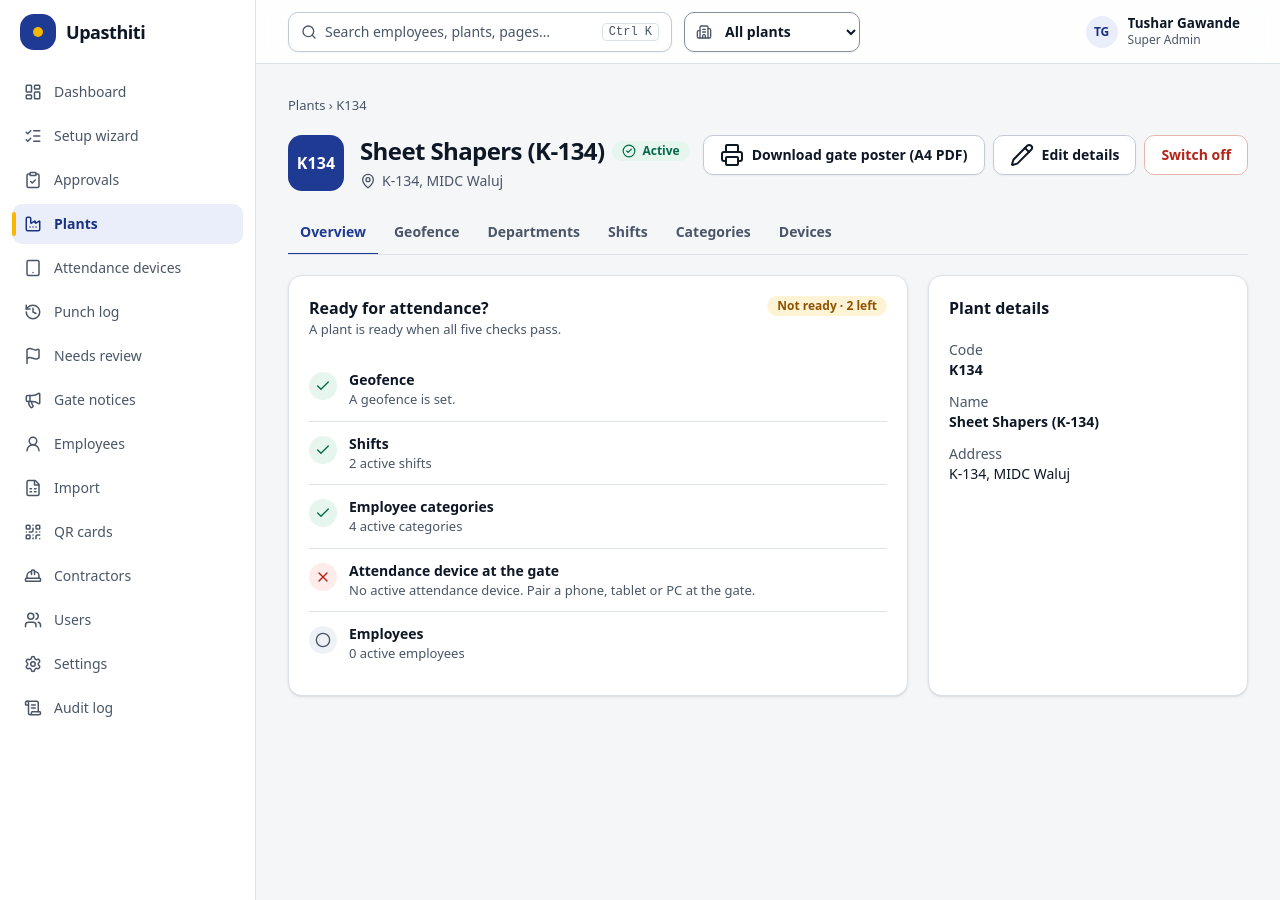
Test case: plant detail › shows the shifts with the live sentence for a night shift in the dialog
Click the tab "Shifts".
click(628, 233)  # box [596,211,660,255]
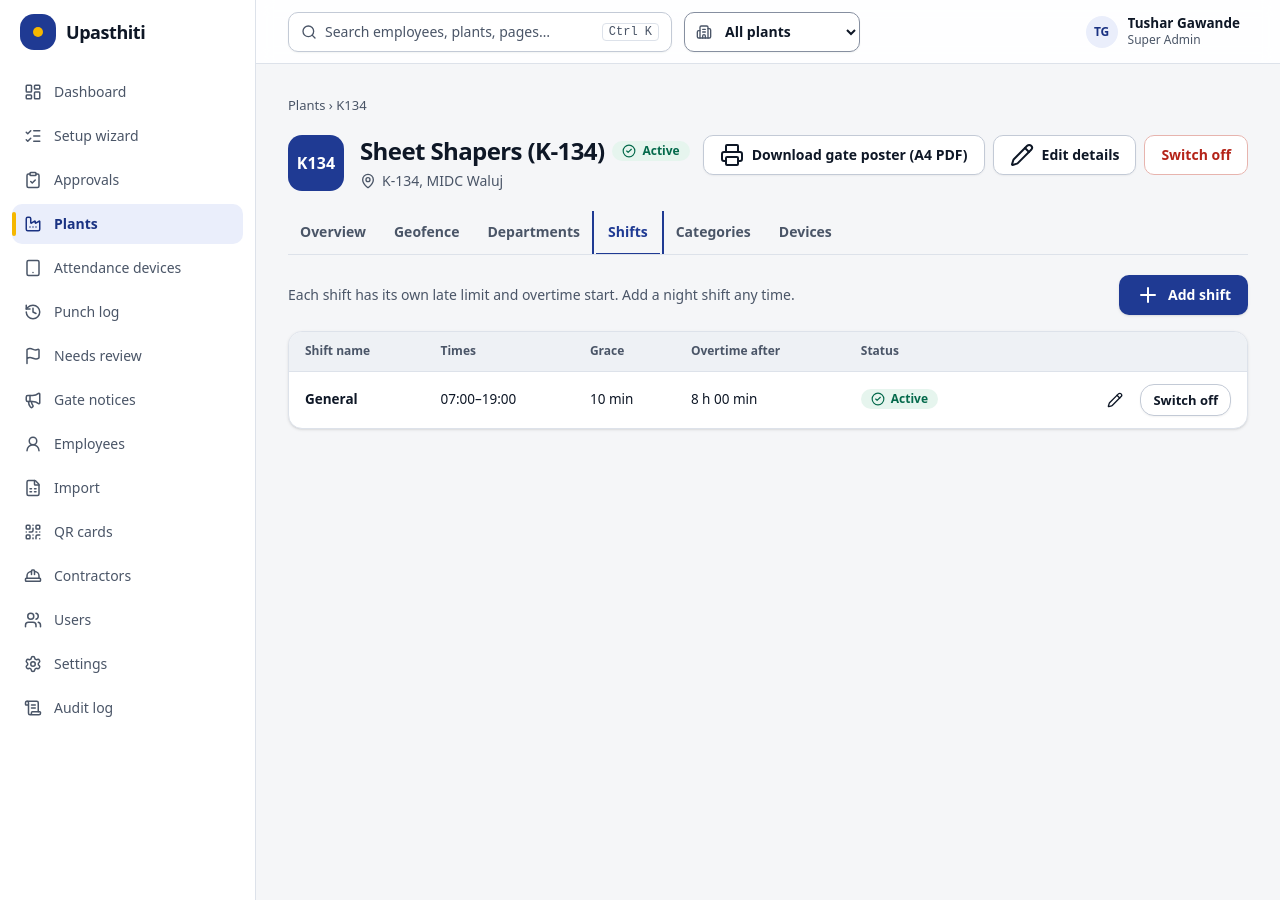
Result: the text "07:00–19:00" is shown at [428,372,578,428]
Click the button "Add shift".
click(1184, 295)  # box [1119,275,1248,315]
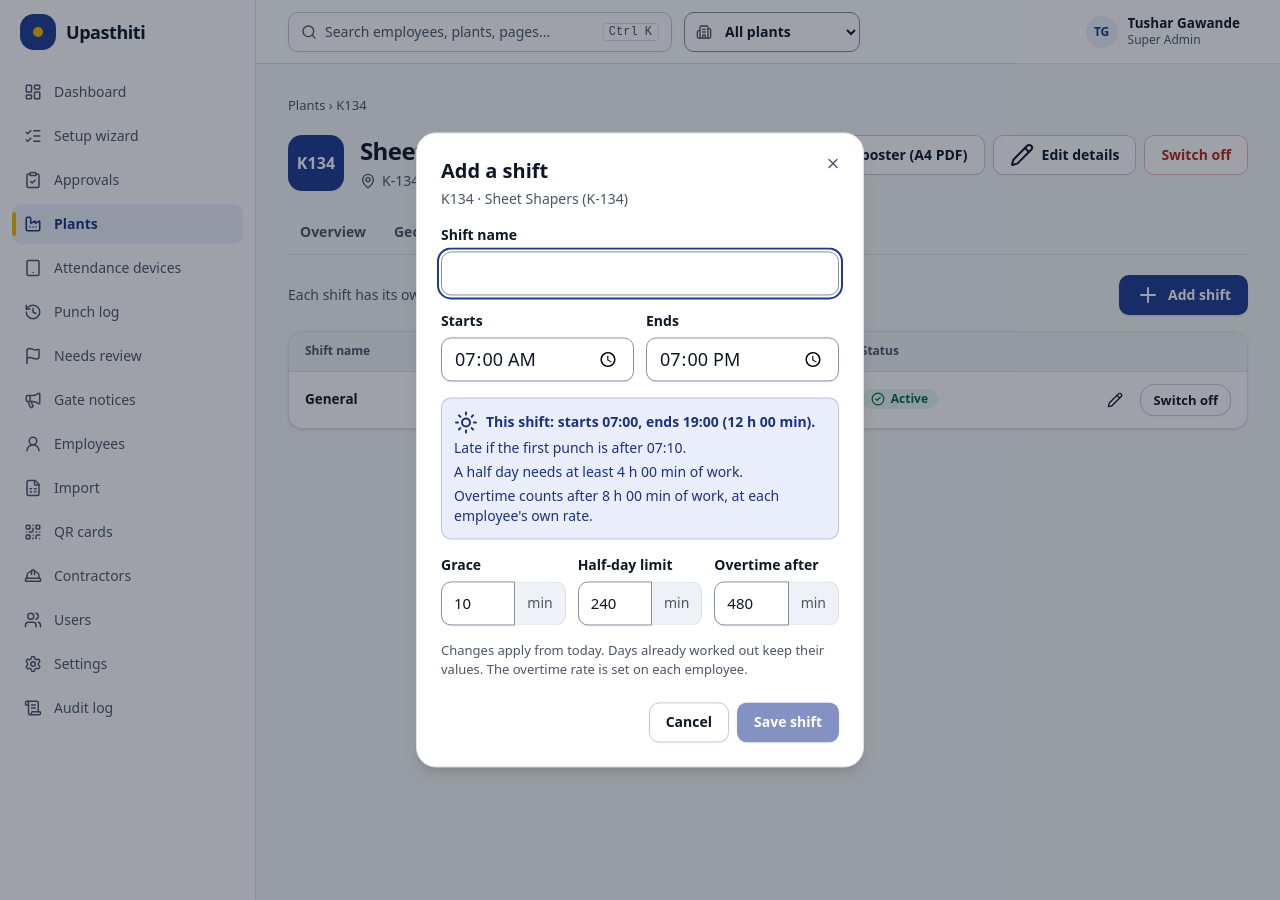
Type "Night" into the field labelled "Shift name".
click(640, 273); type("Night")  # box [441,251,839,295]
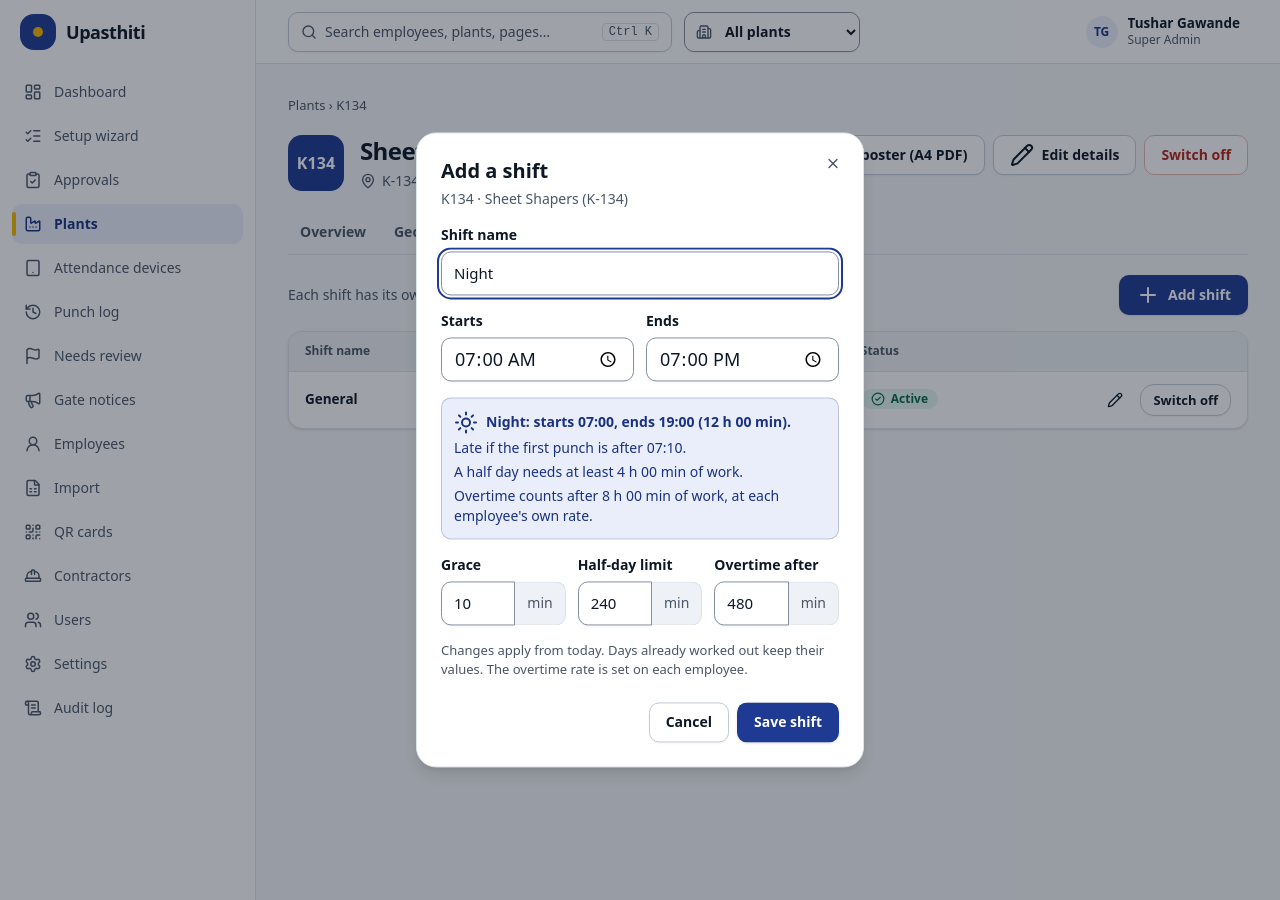
Replace the text in the time field labelled "Starts" with "19:00" at (538, 359), box [441,337,634,381]
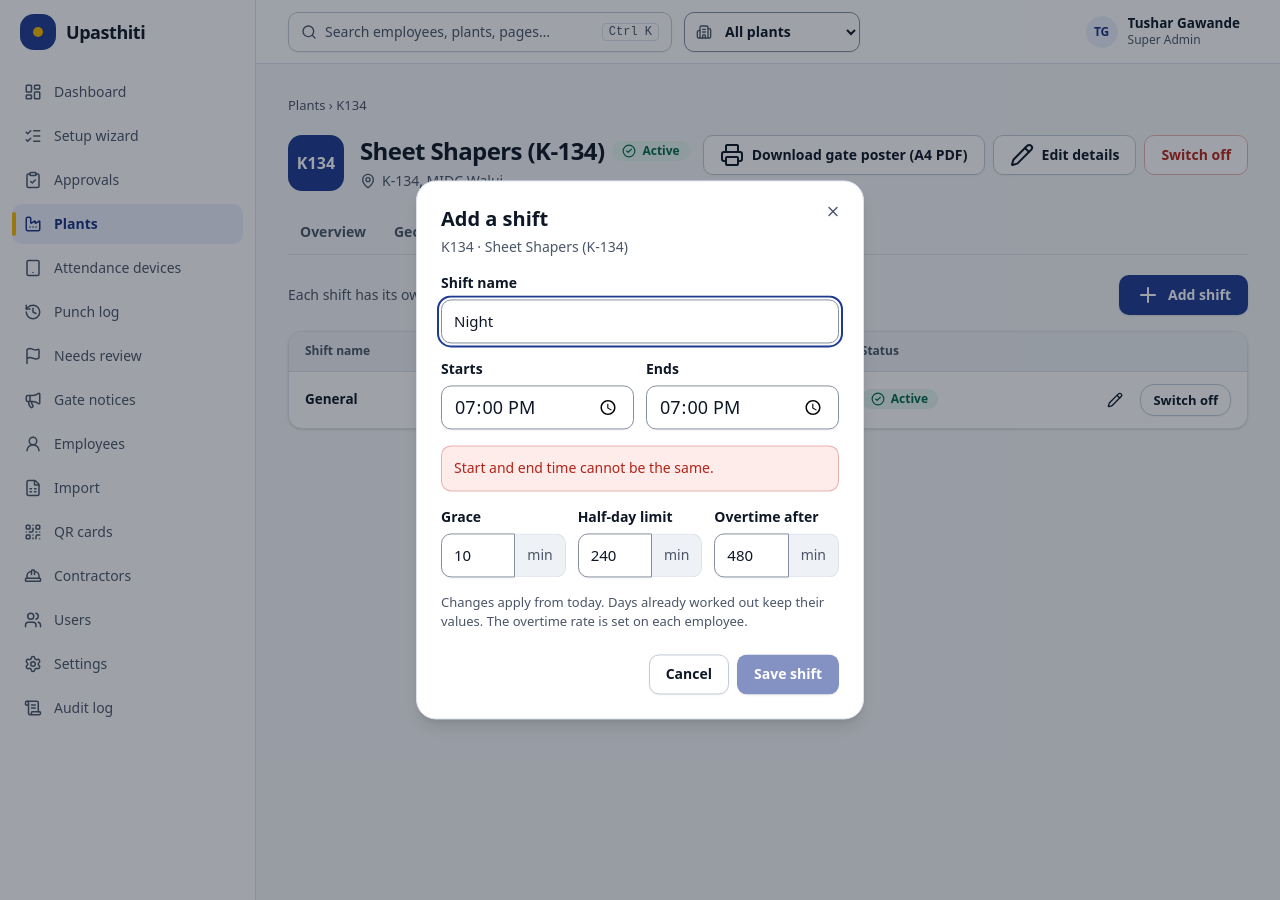
Replace the text in the time field labelled "Ends" with "07:00" at (742, 407), box [646,385,839,429]
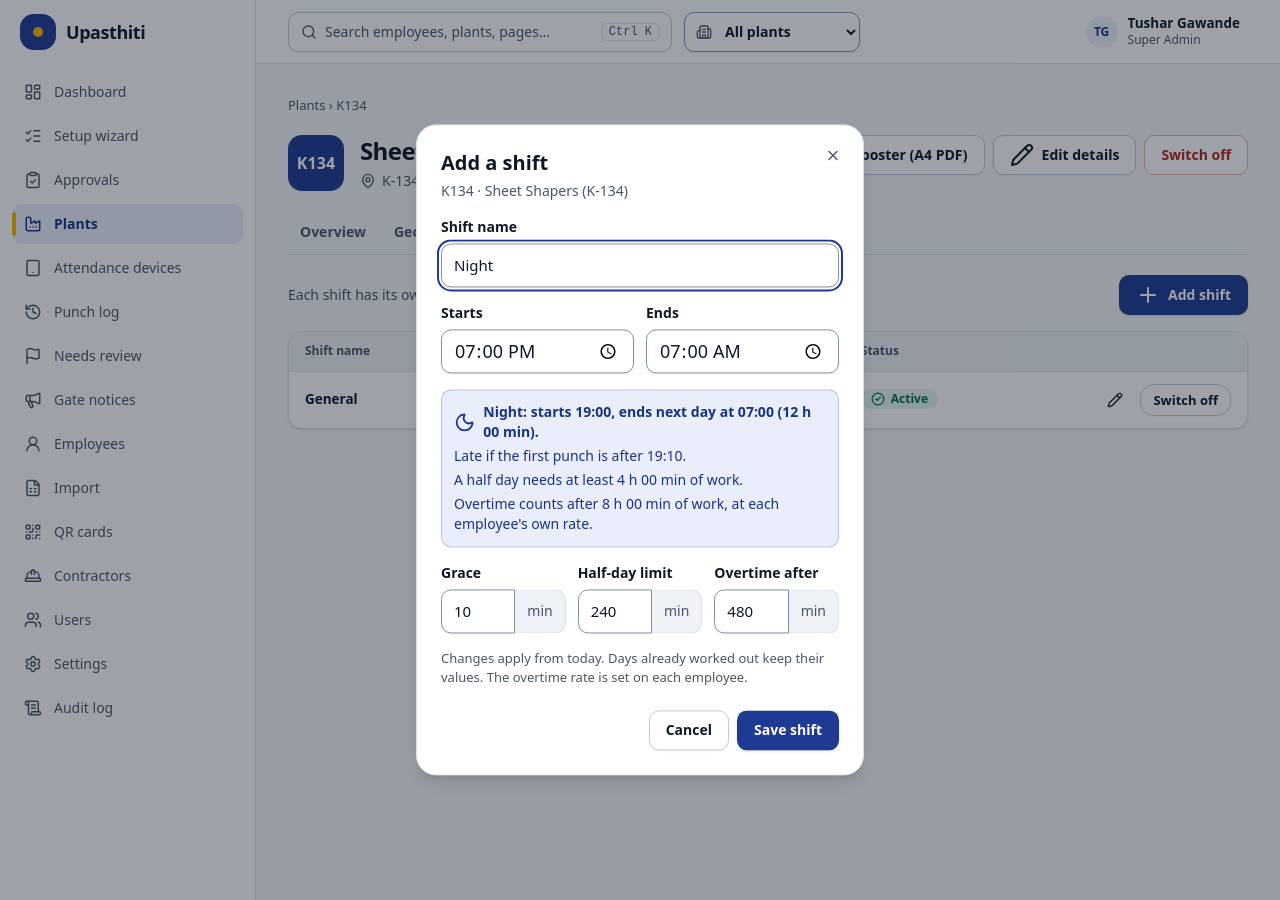
Result: the text "Night: starts 19:00, ends next day at 07:00 (12 h 00 min)." is shown at [454,402,826,442]
Result: the text "Late if the first punch is after 19:10." is shown at [454,446,686,466]
